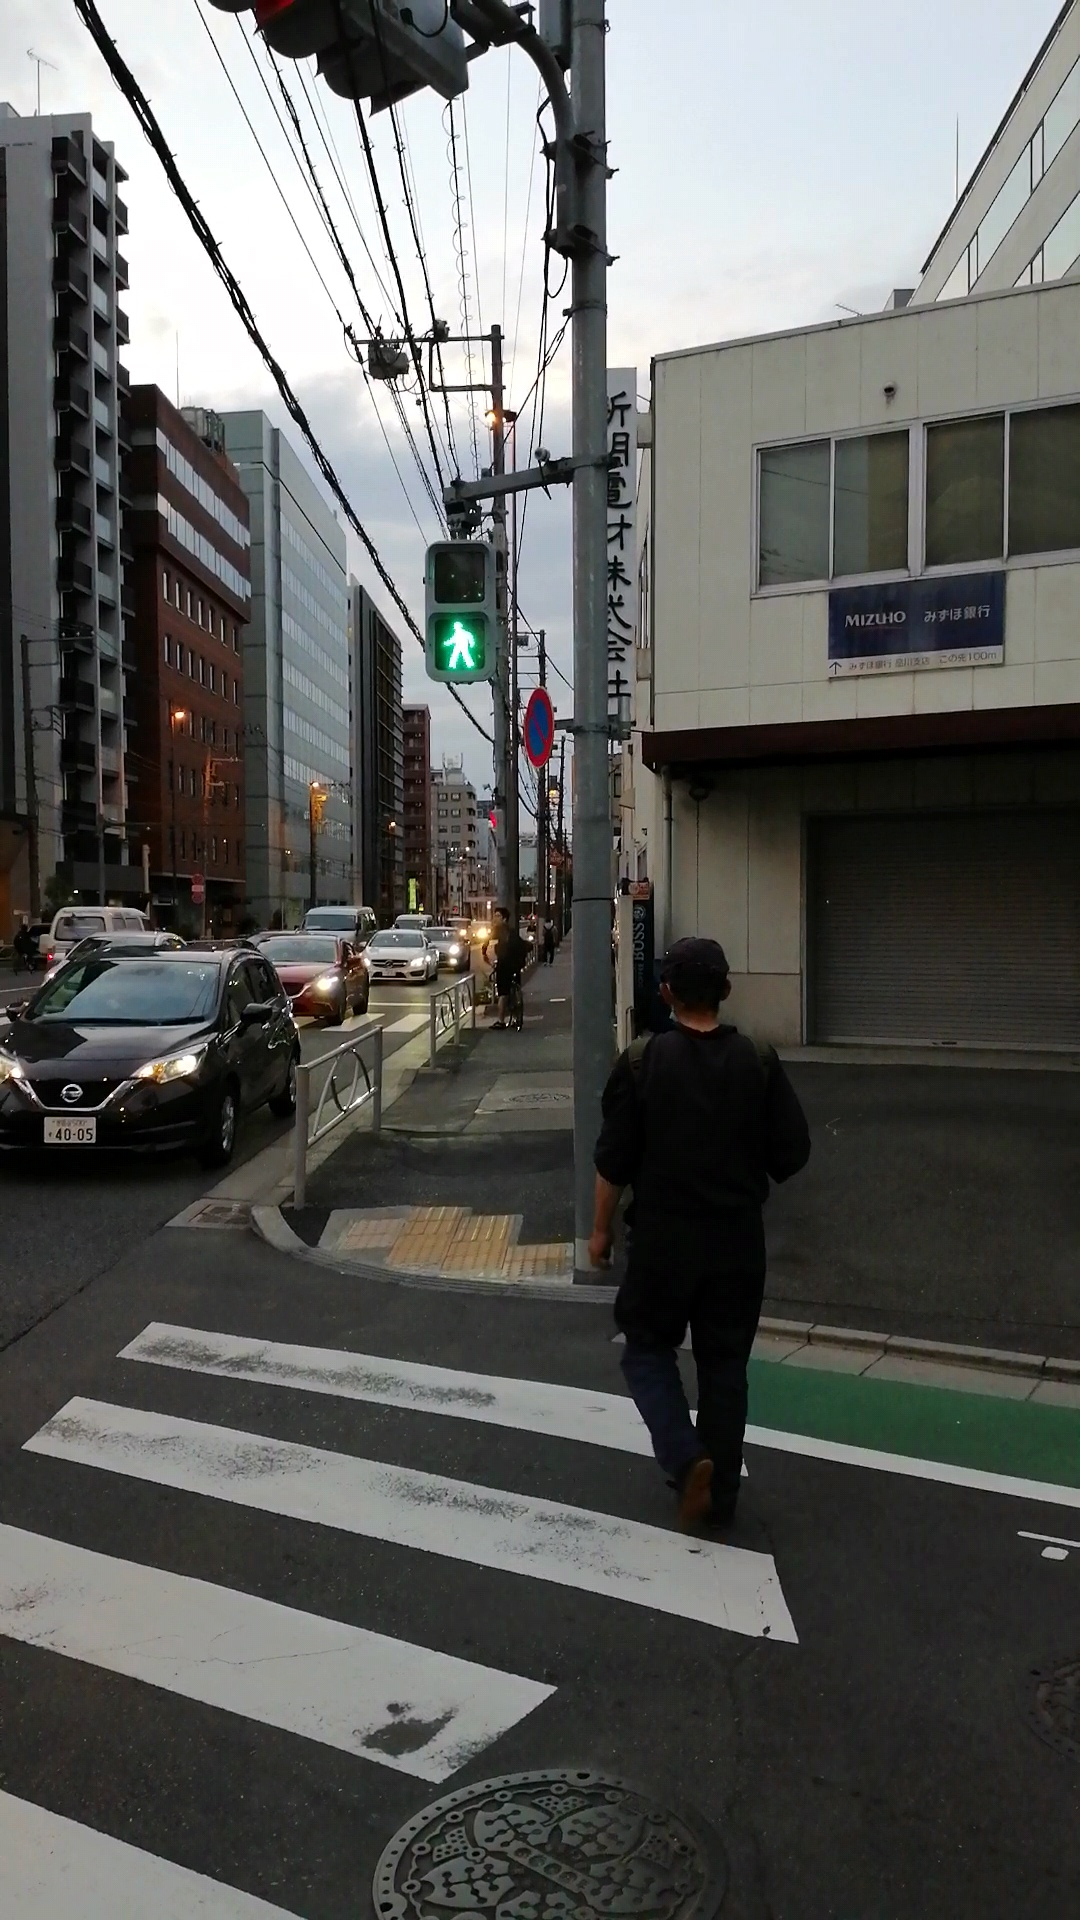green: (425, 541, 497, 682)
